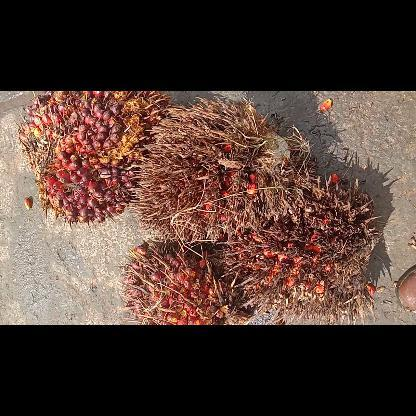TBS masak: (13, 91, 169, 229), (115, 236, 251, 324)
Terlalu masak: (124, 96, 308, 242), (208, 174, 382, 324)
